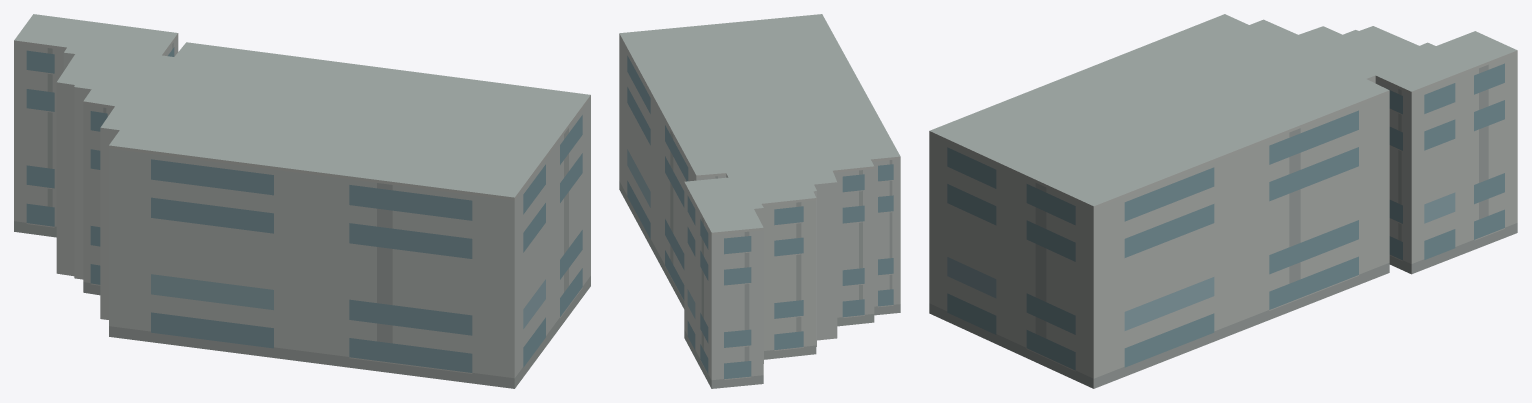
Rendered from survey-upis-32719748.glb.
3 renders of one model, left to right at view 1: azimuth 30°, elevation 25°; view 2: azimuth 150°, elevation 25°; view 3: azimuth 270°, elevation 25°, orthographic. The views are drawn at different scales.
Visible parts, largest first — view 1: survey-upis-32719748.tmp; view 2: survey-upis-32719748.tmp; view 3: survey-upis-32719748.tmp.
Part boxes in pixels (x1=…): survey-upis-32719748.tmp: x1=14, y1=14, x2=590, y2=388; survey-upis-32719748.tmp: x1=619, y1=14, x2=900, y2=388; survey-upis-32719748.tmp: x1=929, y1=14, x2=1517, y2=388.
Bounding box in the file's own units: 34.48 × 15.25 × 44.56.
